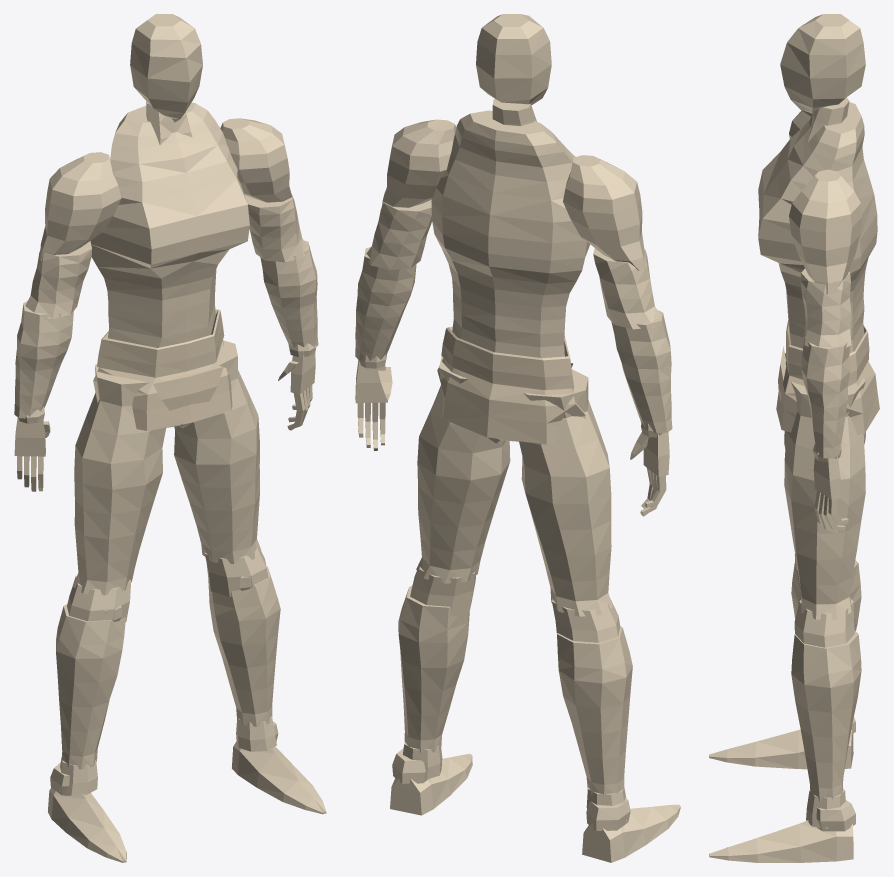
Rendered from paper-man-3.glb.
The picture shows the model from 3 angles, left to right: view 1: azimuth 30°, elevation 25°; view 2: azimuth 150°, elevation 25°; view 3: azimuth 270°, elevation 25°; orthographic projection. The views are drawn at different scales.
Visible parts, largest first — view 1: torso, leg_upper_l, leg_upper_r, leg_lower_l, leg_lower_r, head, deltoid_l, arm_lower_l, deltoid_r, arm_lower_r, briefs_waistband, briefs (+12 smaller); view 2: torso, leg_upper_l, leg_upper_r, leg_lower_l, leg_lower_r, briefs, deltoid_l, head, arm_lower_l, deltoid_r, arm_lower_r, briefs_waistband (+12 smaller); view 3: torso, leg_upper_r, leg_lower_r, head, deltoid_r, arm_lower_r, foot_r, arm_upper_r, foot_l, briefs, knee_r, briefs_waistband (+5 smaller).
Boxes of the visible parts, x1,y1,x2,y2 form: torso: (90,102,249,428); leg_upper_l: (72,364,165,595); leg_upper_r: (174,340,261,564); leg_lower_l: (56,604,125,769); leg_lower_r: (208,566,280,726); head: (130,14,202,122); deltoid_l: (39,152,121,260); arm_lower_l: (14,301,73,418); deltoid_r: (220,118,291,202); arm_lower_r: (260,240,318,347); briefs_waistband: (97,309,224,376); briefs: (93,340,232,430); torso: (431,110,589,441); leg_upper_l: (519,369,612,616); leg_upper_r: (416,356,510,583); leg_lower_l: (557,626,632,795); leg_lower_r: (398,586,469,753); briefs: (437,358,585,444); deltoid_l: (563,155,645,270); head: (476,14,551,104); arm_lower_l: (611,310,672,433); deltoid_r: (381,119,456,207); arm_lower_r: (355,247,416,361); briefs_waistband: (441,326,574,389); torso: (758,102,877,353); leg_upper_r: (784,378,865,619); leg_lower_r: (791,630,861,801); head: (780,14,865,116); deltoid_r: (789,169,862,294); arm_lower_r: (801,337,850,458); foot_r: (709,820,853,862); arm_upper_r: (800,268,851,351); foot_l: (709,729,853,769); briefs: (776,353,879,435); knee_r: (794,598,854,647); briefs_waistband: (786,320,869,386).
Bounding box in the file's own units: 0.7515 × 1.85 × 0.364.
